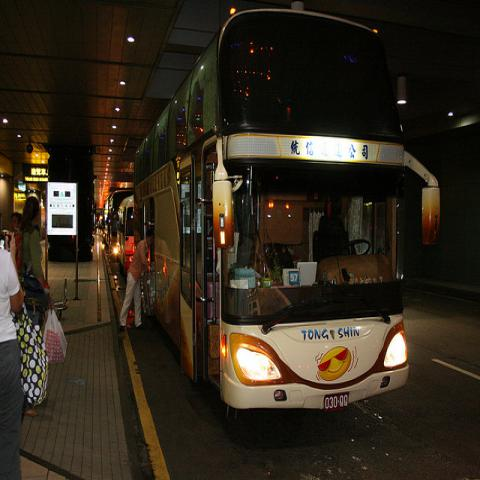bus: (134, 4, 442, 413), (104, 188, 134, 260), (117, 195, 135, 280)
